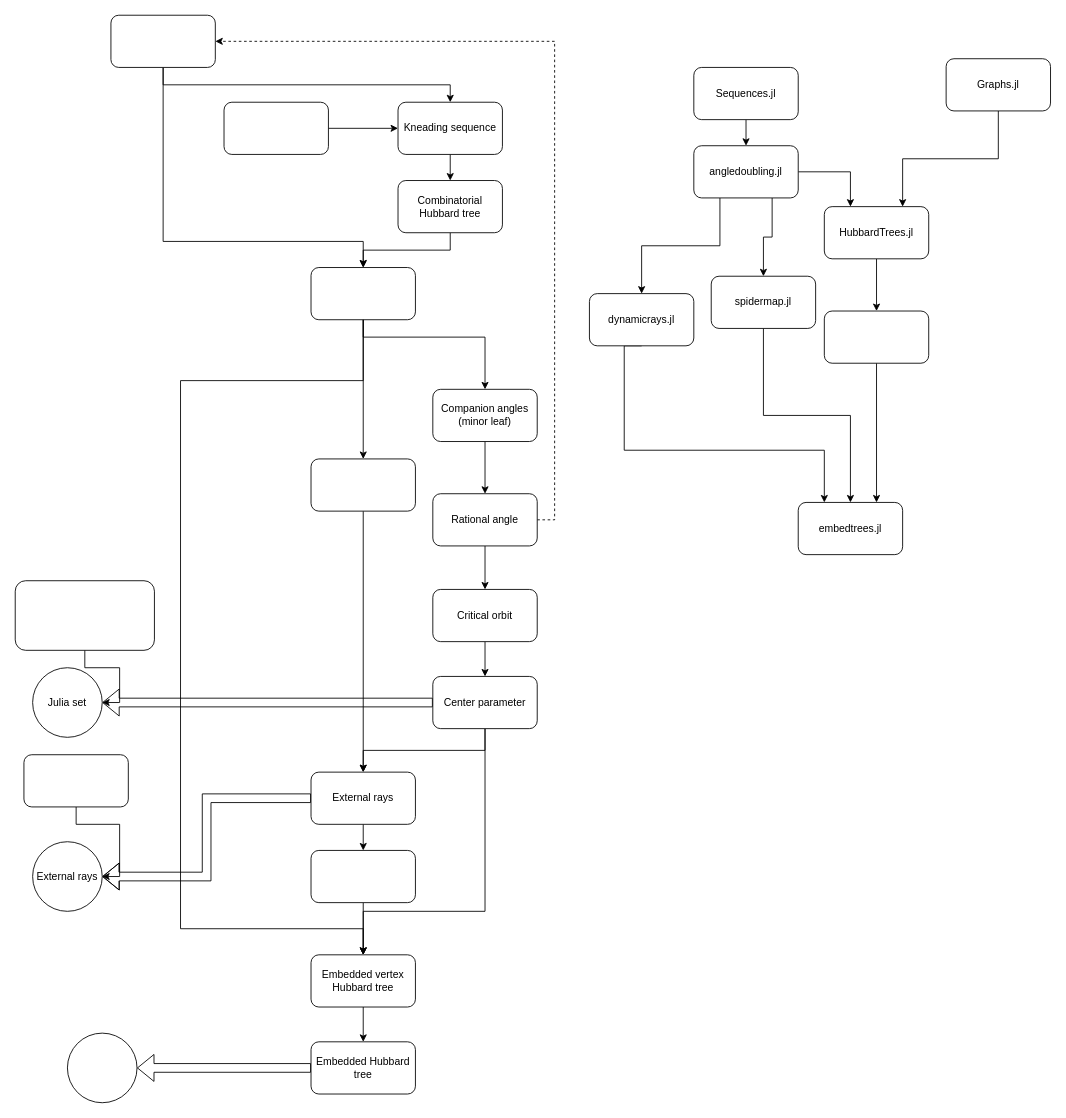
Image size: 1066x1118. Some labels were removed from this diagram. The box of each missing label's shape, as (x1, y1, x2, y2) in pixels:
Angled internal address: (110, 14, 215, 67)
Branch parameters: (310, 850, 415, 903)
escape radius max iterations color palette points to render (patch): (14, 580, 154, 650)
Hubbard tree: (67, 1032, 137, 1103)
Internal address: (223, 101, 328, 154)
Orbit portrait: (310, 458, 415, 511)
Oriented Hubbard tree: (310, 267, 415, 320)
orienttrees.jl: (823, 310, 929, 363)
outer radius resolution depth color scheme: (23, 754, 128, 807)
